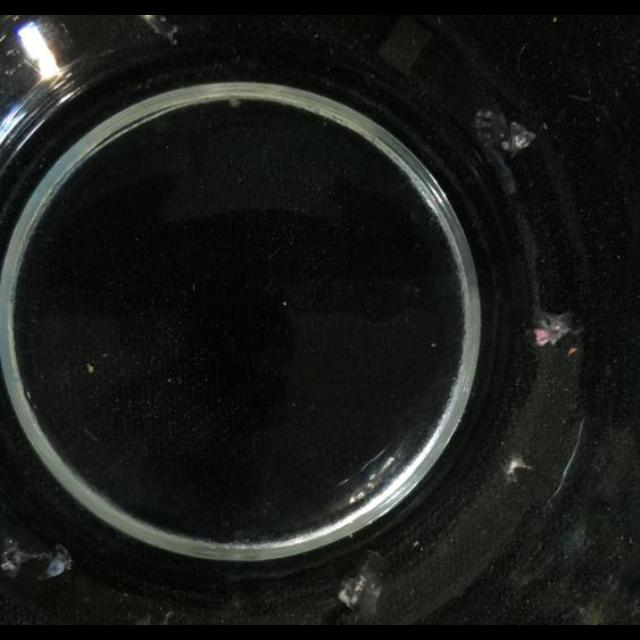Fibre: (1, 537, 72, 581), (473, 108, 513, 154), (502, 121, 536, 155), (338, 574, 366, 612), (1, 540, 25, 576), (506, 456, 534, 484), (134, 612, 158, 626)
microbeads: (86, 362, 94, 373), (192, 282, 196, 294)
